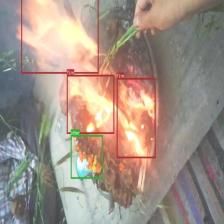fire: (21, 0, 98, 73), (116, 77, 155, 158), (67, 74, 114, 134)
